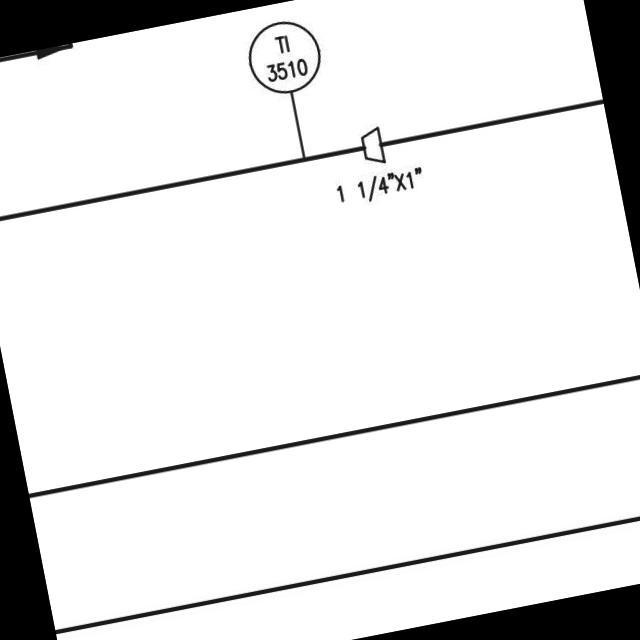SP: (353, 122, 388, 166)
